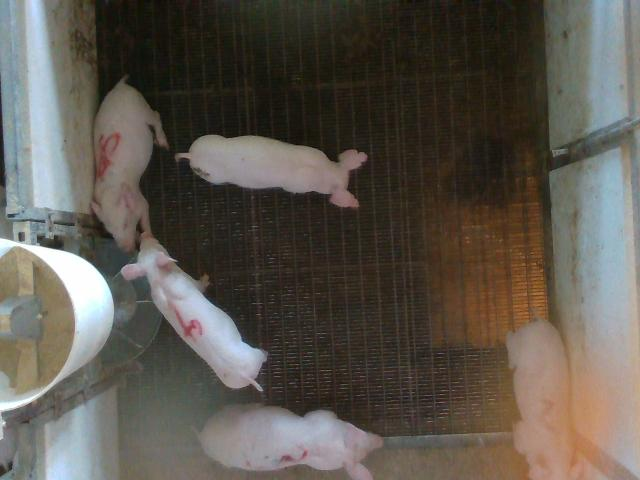pig-2: (506, 318, 574, 479)
pig-3: (198, 405, 382, 479)
pig-4: (122, 234, 266, 389)
pig-5: (91, 78, 168, 251)
